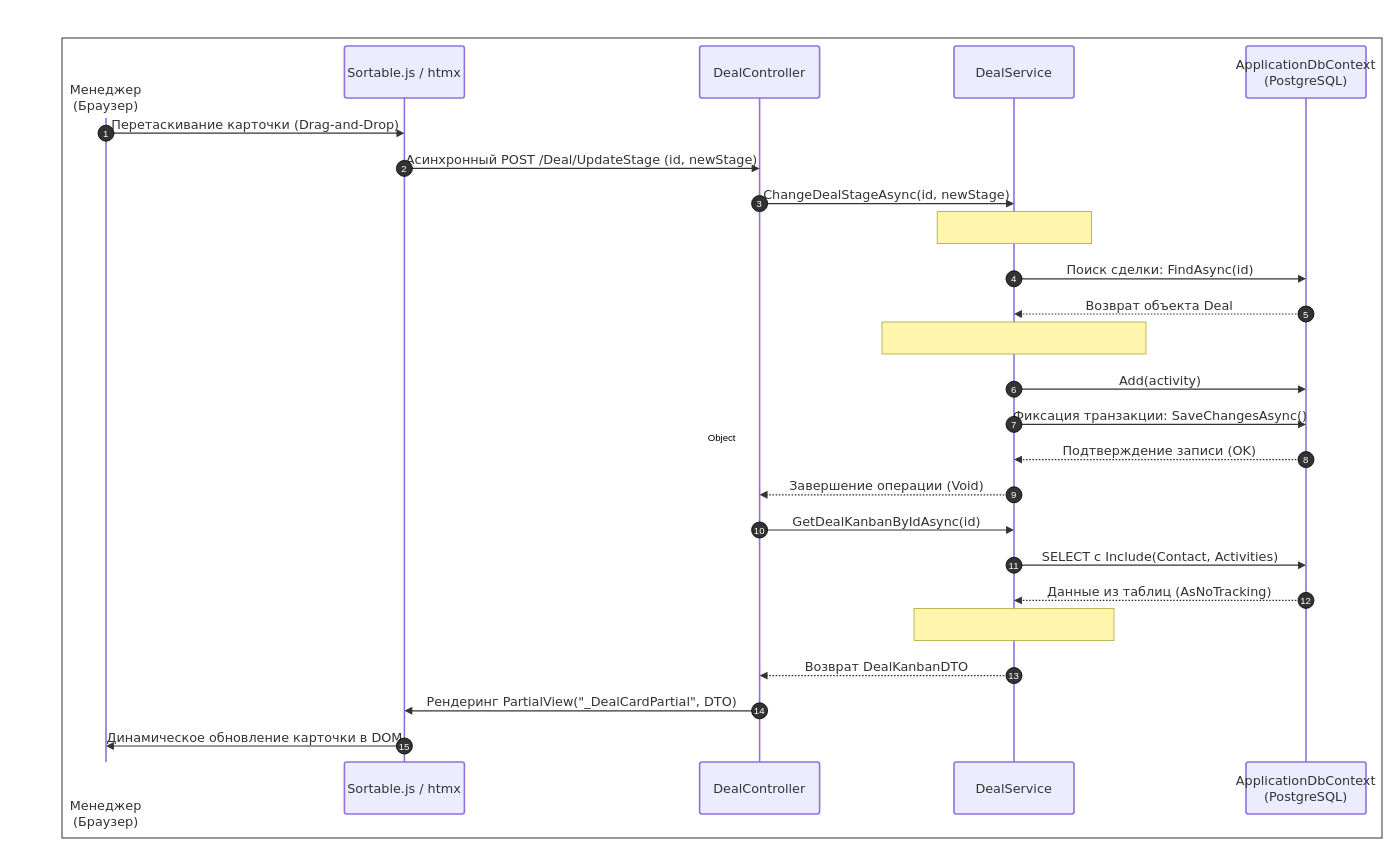
Some shapes in this 1396 by 852 pixel diagram are drawn without their labels. Each missing label, with the centre of its shape:
Маппинг сущности в DealKanbanDTO: (x=1013, y=624)
Парсинг Enum & Валидация: (x=1014, y=227)
Смена deal.Status & Создание новой Activity: (x=1013, y=337)
